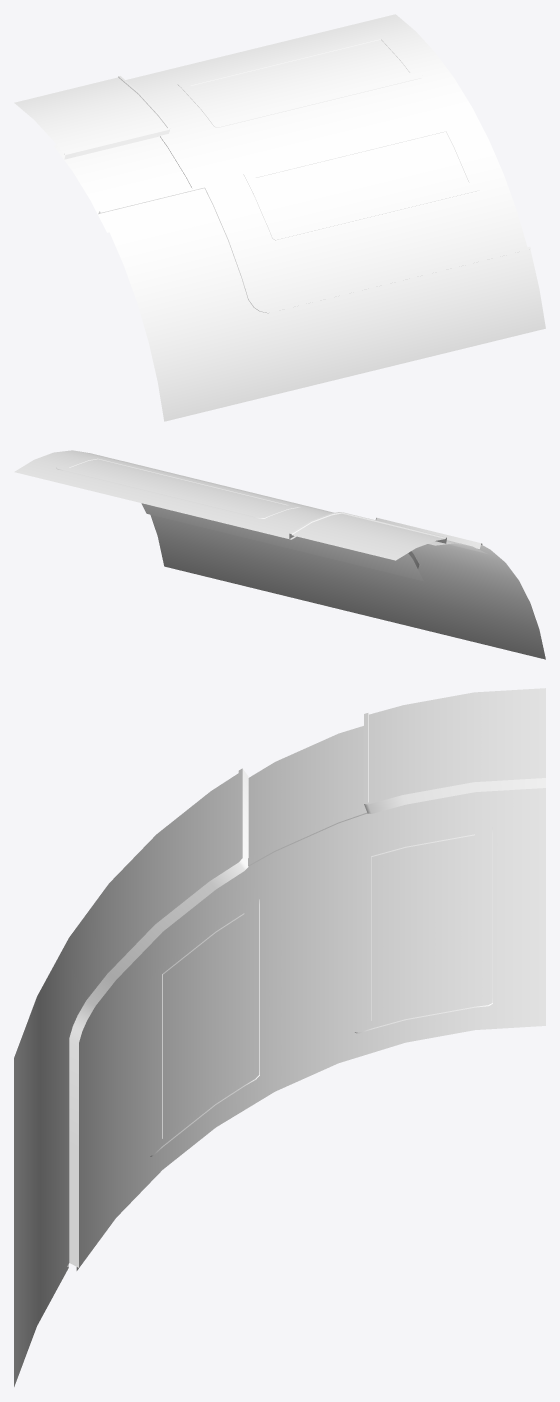
The model's file is grd_Ex_e_sw_0.dae.
The picture shows the model from 3 angles, top to bottom: view 1: azimuth 30°, elevation 25°; view 2: azimuth 150°, elevation 25°; view 3: azimuth 270°, elevation 25°; orthographic projection. The views are drawn at different scales.
Parts seen in each view (by area): view 1: grass_0_0, road2_2_0, renga2_1_0, road2_3_0; view 2: grass_0_0, road2_2_0, renga2_1_0; view 3: grass_0_0, road2_2_0, renga2_1_0, road2_3_0.
Boxes of the visible parts, x1,y1,x2,y2 form: grass_0_0: [14, 39, 545, 421]; road2_2_0: [125, 14, 527, 309]; renga2_1_0: [64, 33, 530, 313]; road2_3_0: [54, 136, 191, 232]; grass_0_0: [70, 459, 545, 659]; road2_2_0: [14, 450, 423, 581]; renga2_1_0: [56, 456, 482, 569]; grass_0_0: [14, 688, 545, 1386]; road2_2_0: [76, 788, 545, 1270]; renga2_1_0: [67, 713, 545, 1267]; road2_3_0: [247, 726, 369, 868].
Bounding box in the file's own units: 704 × 370 × 480.
4 materials, 1 textured.
